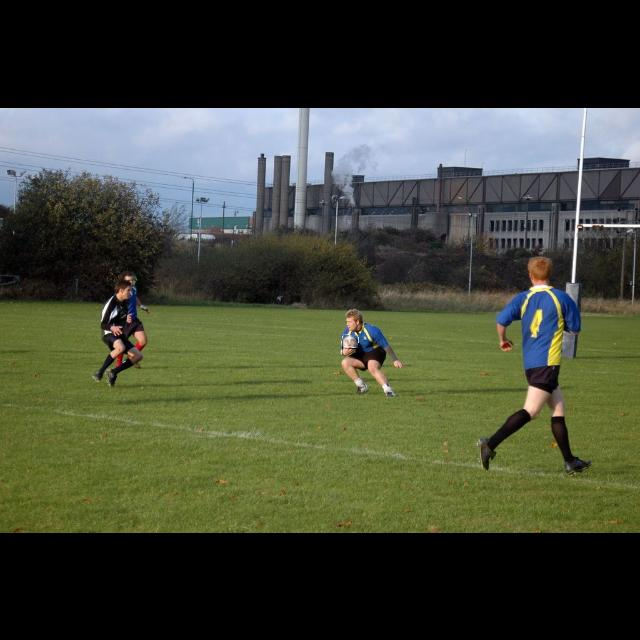Football: (342, 335, 358, 349)
